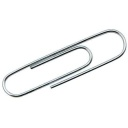Metal: (0, 21, 128, 112)
